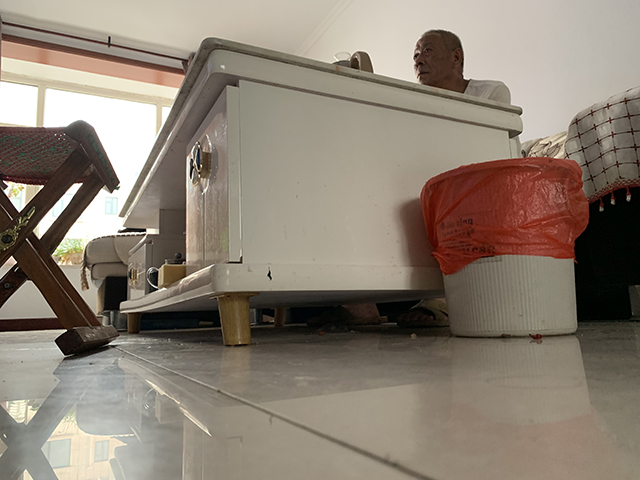stool: (1, 117, 124, 358)
table: (118, 35, 525, 347)
trashcan: (419, 157, 584, 337)
